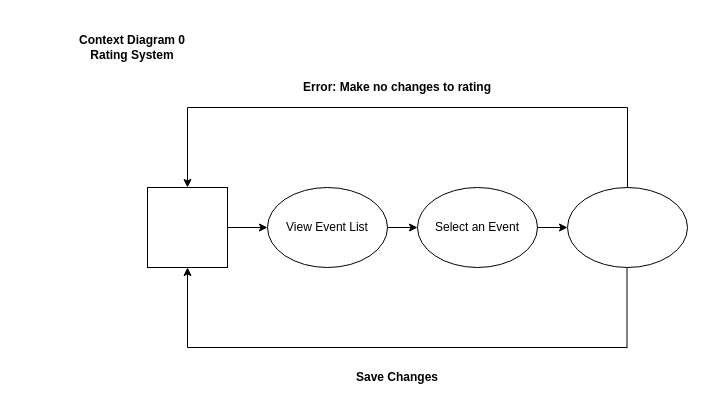
Image size: 705x404. Some labels were removed from this diagram. The centre of each missing label's shape, as x and y in pixels:
"Click Thumbs-Up to Improve rating" goes at pixel 627 227.
"User" goes at pixel 187 227.
